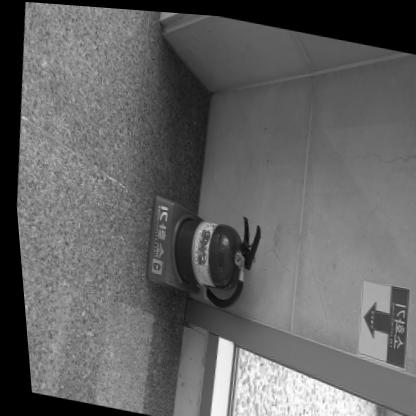FE: (133, 194, 263, 310)
